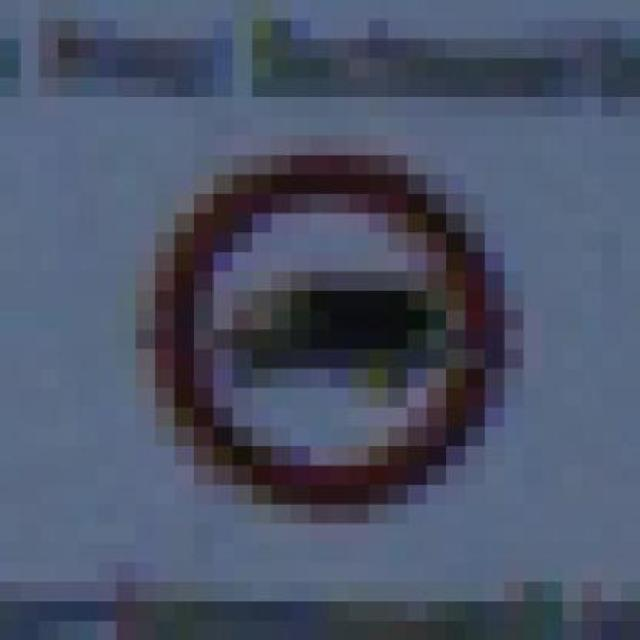Truck traffic is prohibited: (135, 96, 543, 524)
